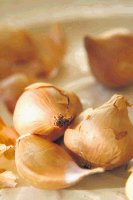onion: (10, 134, 106, 192), (64, 92, 132, 166), (14, 81, 86, 134), (82, 29, 132, 91)
